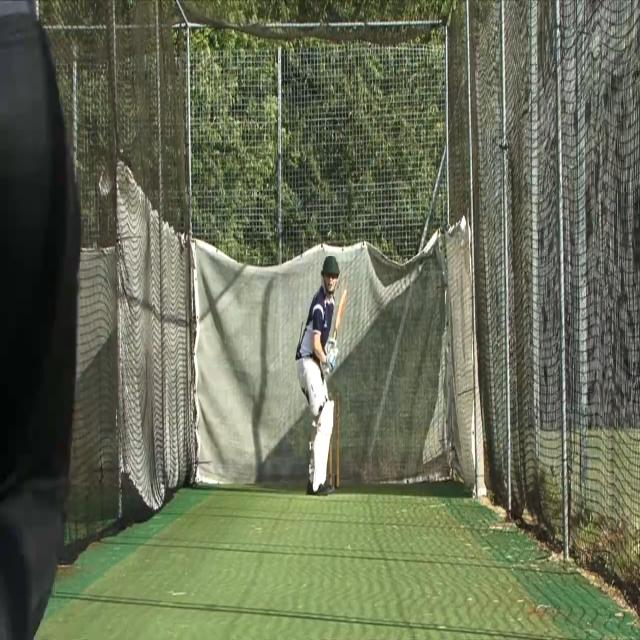batsman: (294, 253, 348, 499)
